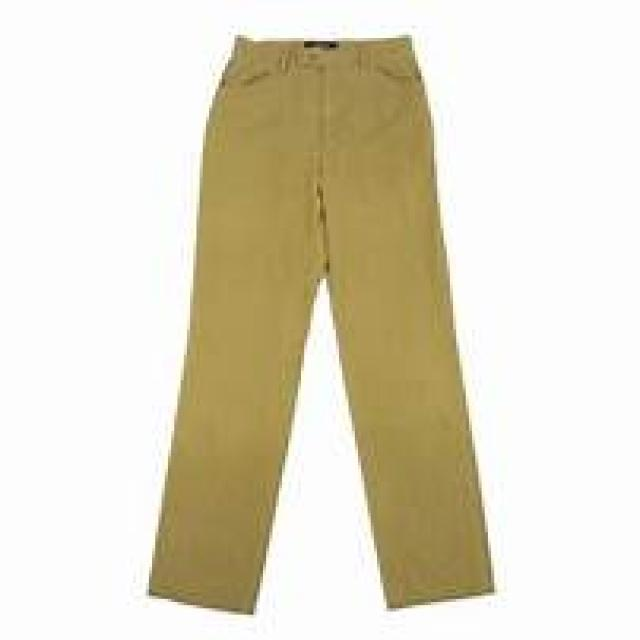long-pants: (146, 29, 497, 616)
